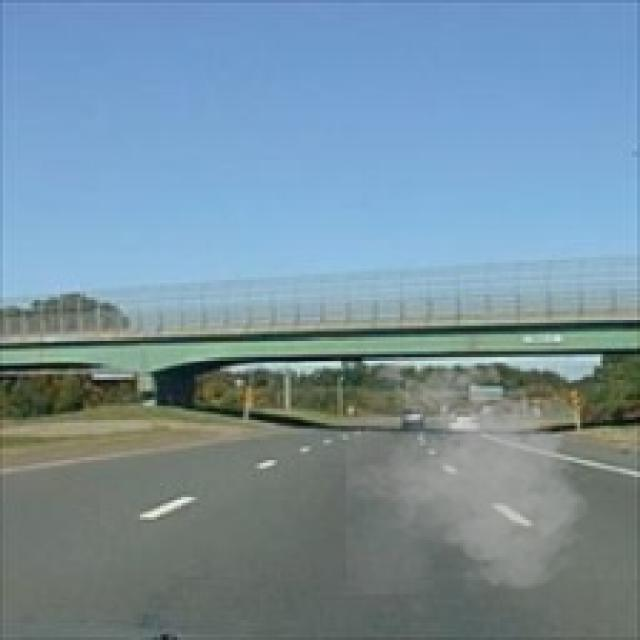Smoke: (346, 348, 598, 598)
